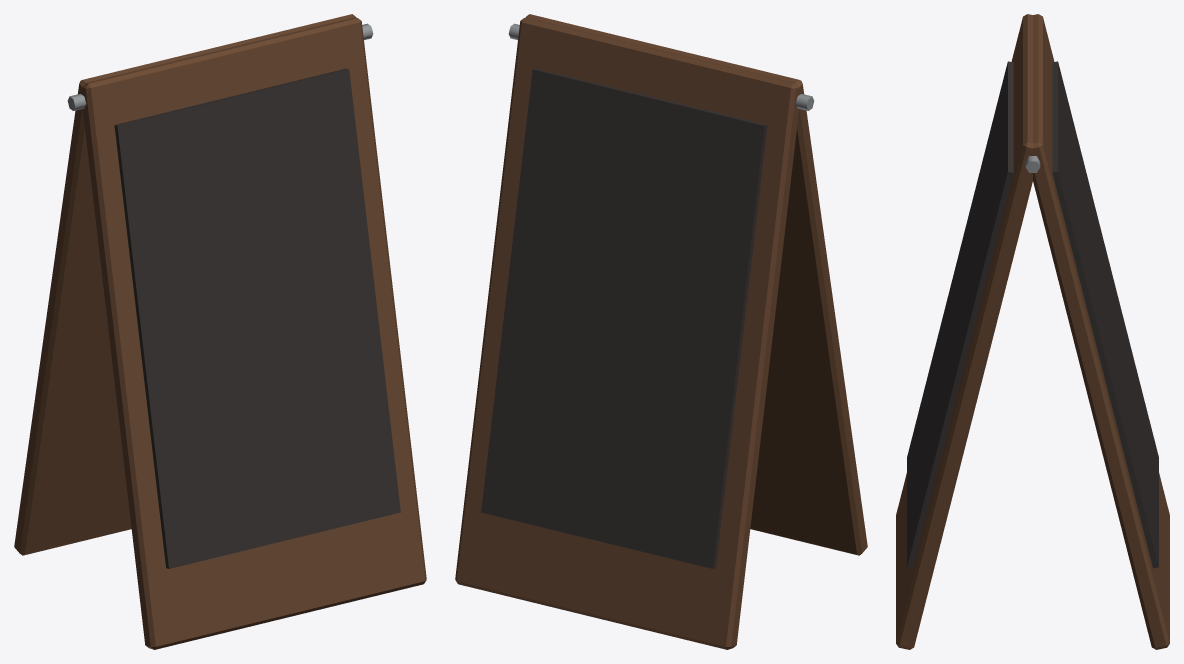
The model's file is prop_a_frame_sign_01.glb.
3 renders of one model, left to right at view 1: azimuth 30°, elevation 25°; view 2: azimuth 150°, elevation 25°; view 3: azimuth 270°, elevation 25°, orthographic. The views are drawn at different scales.
Visible parts, largest first — view 1: prop_a_frame_sign_01; view 2: prop_a_frame_sign_01; view 3: prop_a_frame_sign_01.
Part boxes in pixels (x1=…): prop_a_frame_sign_01: x1=14, y1=14, x2=426, y2=649; prop_a_frame_sign_01: x1=455, y1=14, x2=867, y2=649; prop_a_frame_sign_01: x1=896, y1=14, x2=1169, y2=649.
Bounding box in the file's own units: 0.54 × 0.9005 × 0.4404.
